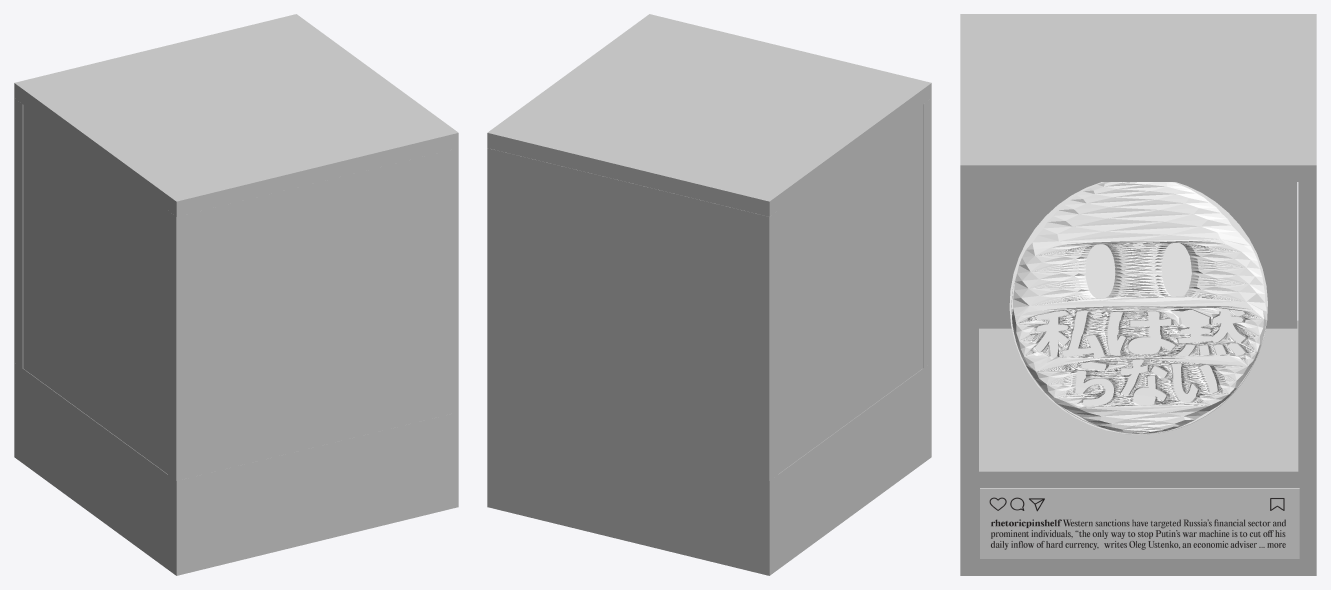
The model's file is load.gltf.
3 views of the same model, side by side, from view 1: azimuth 30°, elevation 25°; view 2: azimuth 150°, elevation 25°; view 3: azimuth 270°, elevation 25° (orthographic). The views are drawn at different scales.
Parts seen in each view (by area): view 1: Plane.001, Plane.003, Plane.004, Plane.005, Plane, Plane.002; view 2: Plane.002, Plane.003, Plane.004, Plane.005, Plane, Plane.001; view 3: Plane.003, Curve.004, Plane, Plane.170, Plane.004, Curve.007, Plane.005, Plane.001, Plane.002, Untitled-1, enamel_pin.008.
Boxes of the visible parts, bbox=[...] form: Plane.001: bbox=[168, 148, 458, 480]; Plane.003: bbox=[14, 14, 458, 216]; Plane.004: bbox=[23, 105, 167, 473]; Plane.005: bbox=[14, 377, 458, 575]; Plane: bbox=[14, 362, 458, 496]; Plane.002: bbox=[14, 98, 23, 368]; Plane.002: bbox=[487, 148, 777, 480]; Plane.003: bbox=[487, 14, 931, 216]; Plane.004: bbox=[778, 105, 922, 474]; Plane.005: bbox=[487, 378, 931, 575]; Plane: bbox=[487, 362, 931, 495]; Plane.001: bbox=[923, 98, 931, 368]; Plane.003: bbox=[960, 14, 1316, 181]; Curve.004: bbox=[1012, 182, 1266, 434]; Plane: bbox=[960, 320, 1316, 488]; Plane.170: bbox=[980, 488, 1299, 558]; Plane.004: bbox=[979, 182, 1297, 328]; Curve.007: bbox=[1009, 182, 1267, 434]; Plane.005: bbox=[960, 487, 1316, 575]; Plane.001: bbox=[960, 182, 978, 471]; Plane.002: bbox=[1298, 182, 1316, 471]; Untitled-1: bbox=[989, 497, 1285, 549]; enamel_pin.008: bbox=[1011, 274, 1190, 427].
Size of the model in its own units: 2.25 by 2.84 by 2.23.
4 materials, 1 textured.
